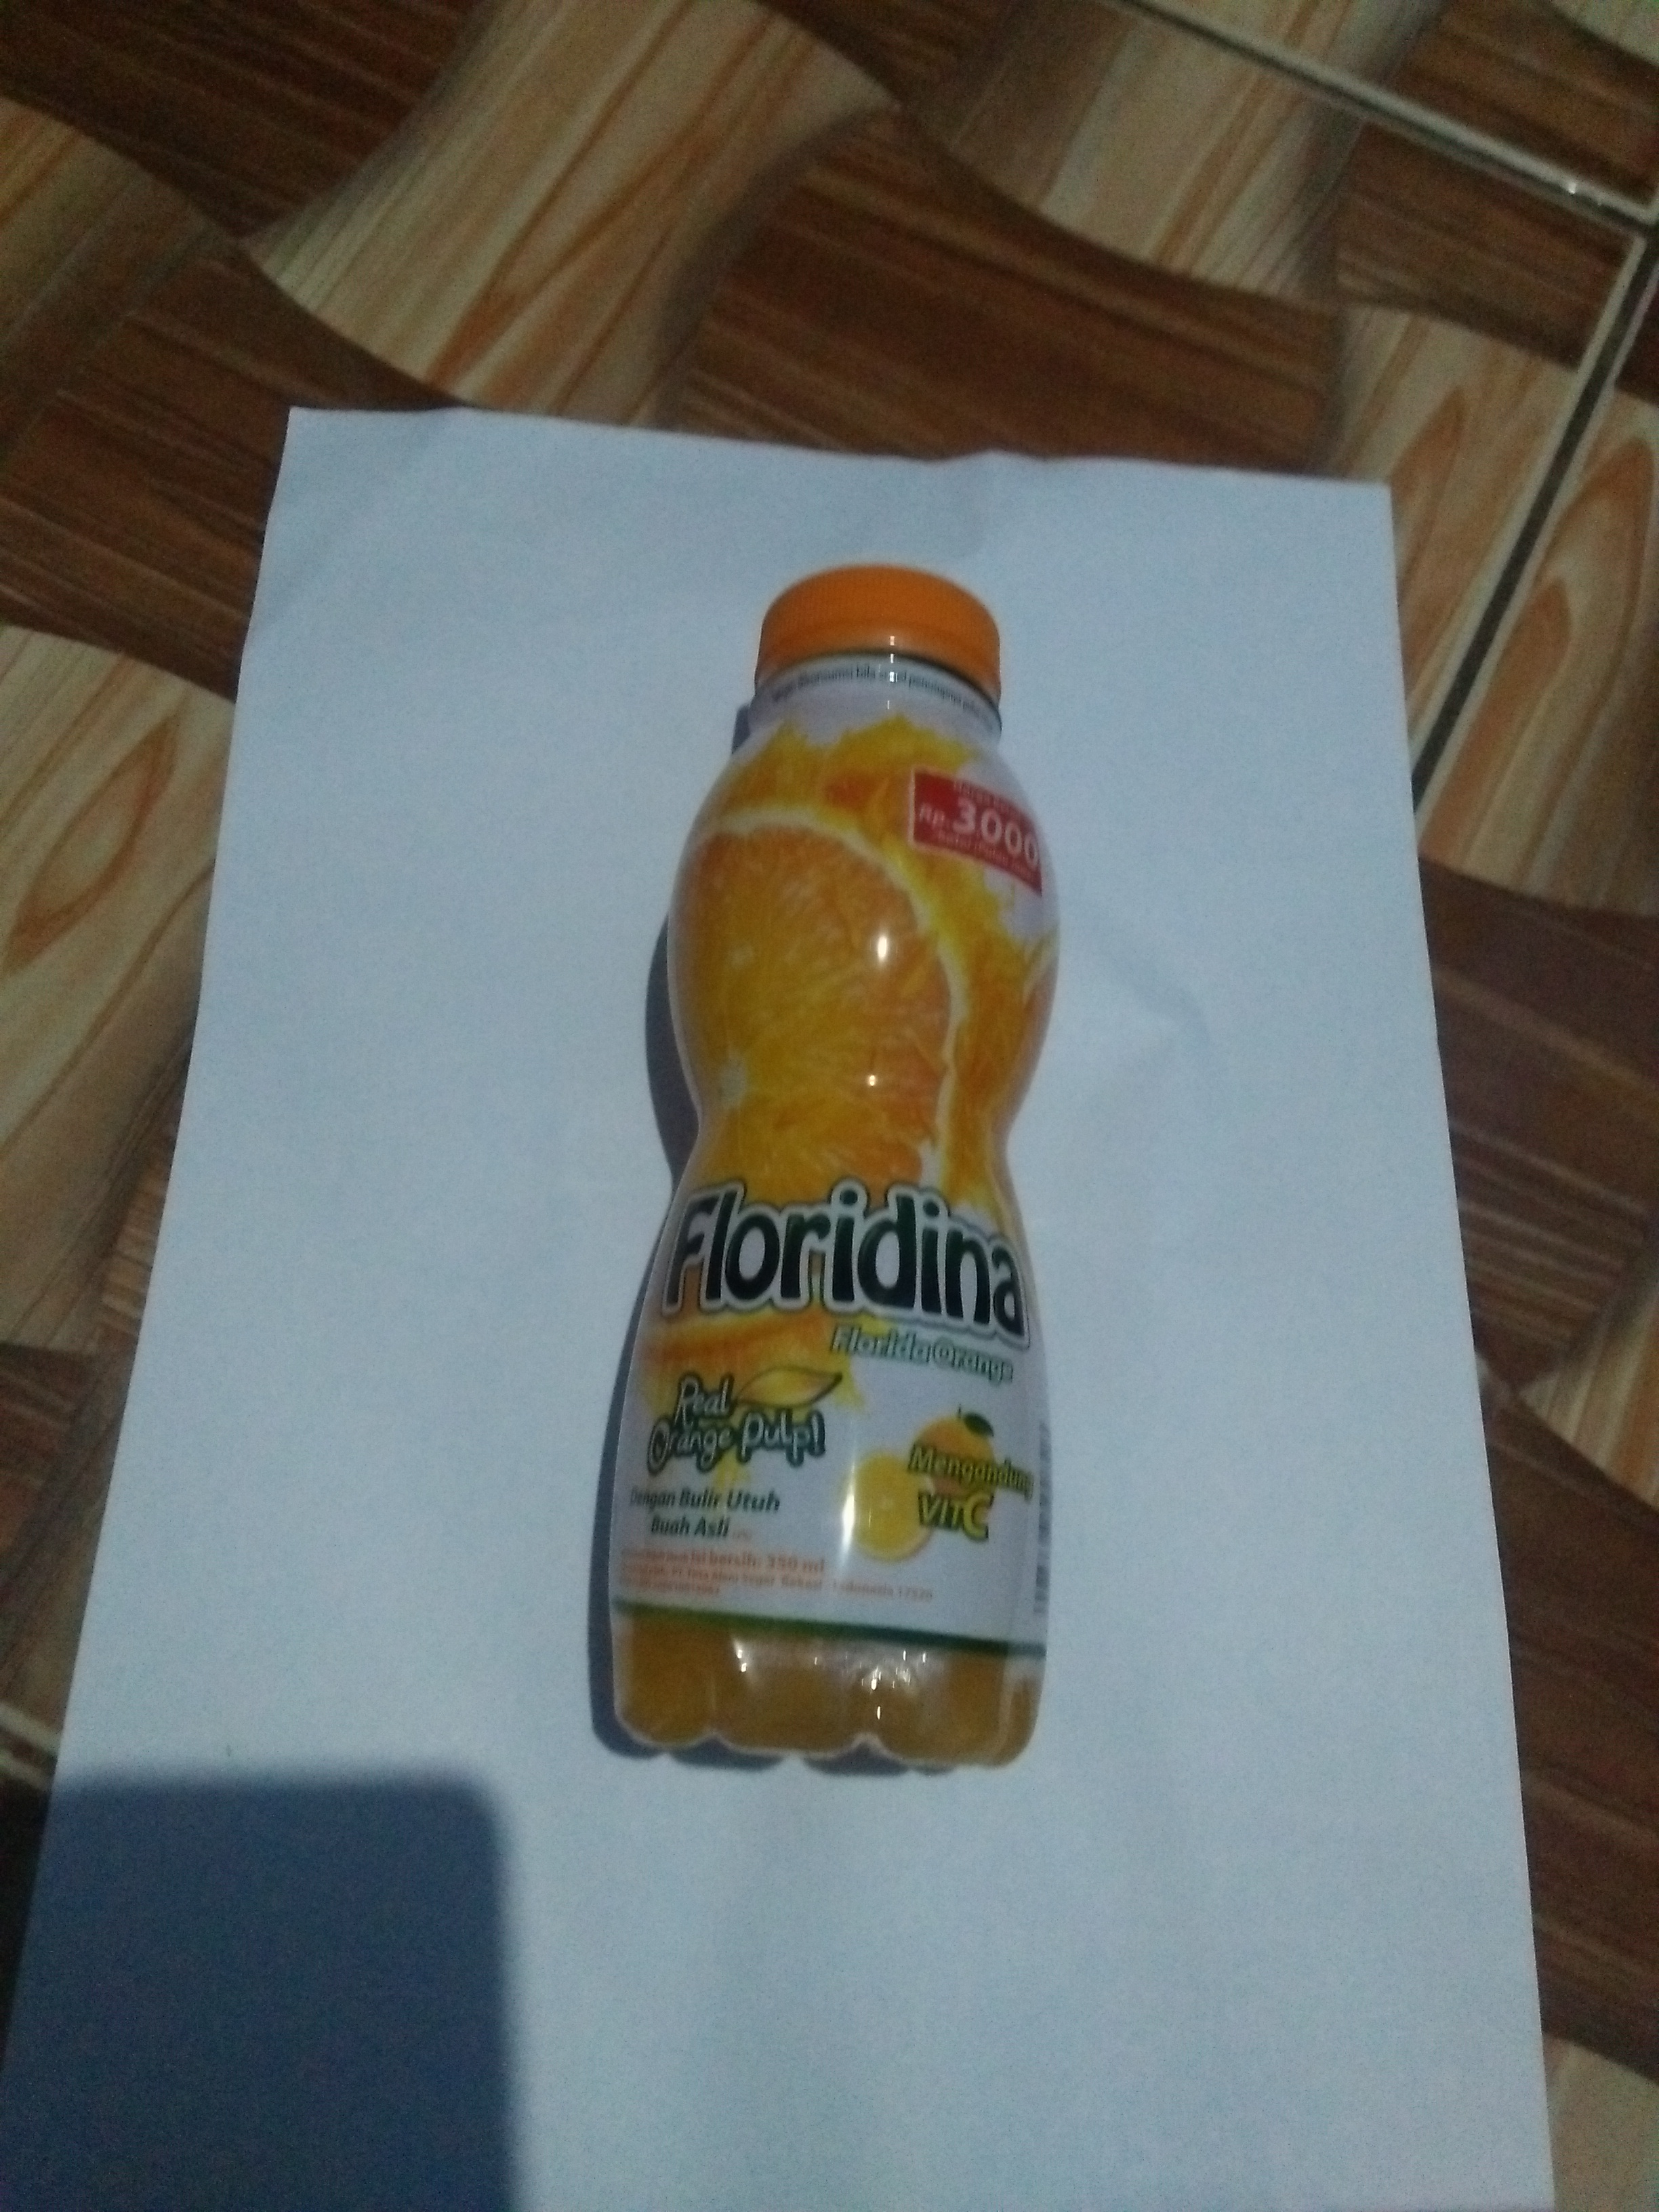Floridina: (582, 538, 1098, 1794)
